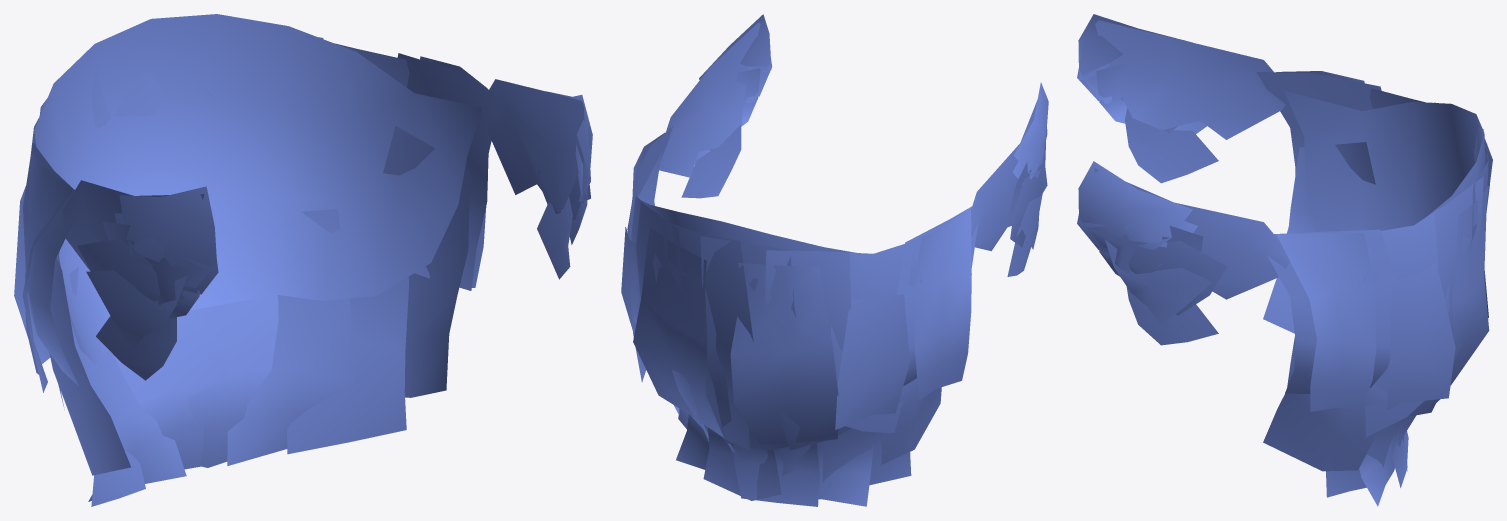
File: ManCarlos_option.fbx
The picture shows the model from 3 angles, left to right: view 1: azimuth 30°, elevation 25°; view 2: azimuth 150°, elevation 25°; view 3: azimuth 270°, elevation 25°; orthographic projection. The views are drawn at different scales.
Parts seen in each view (by area): view 1: ManCarlos_option_lod0; view 2: ManCarlos_option_lod0; view 3: ManCarlos_option_lod0.
Part boxes in pixels (x1,y1,x2,y2): ManCarlos_option_lod0: [14, 14, 592, 506]; ManCarlos_option_lod0: [621, 14, 1048, 506]; ManCarlos_option_lod0: [1077, 14, 1492, 506].
Size of what is drawn, in the model's own units: 16.14 by 15.56 by 15.48.
